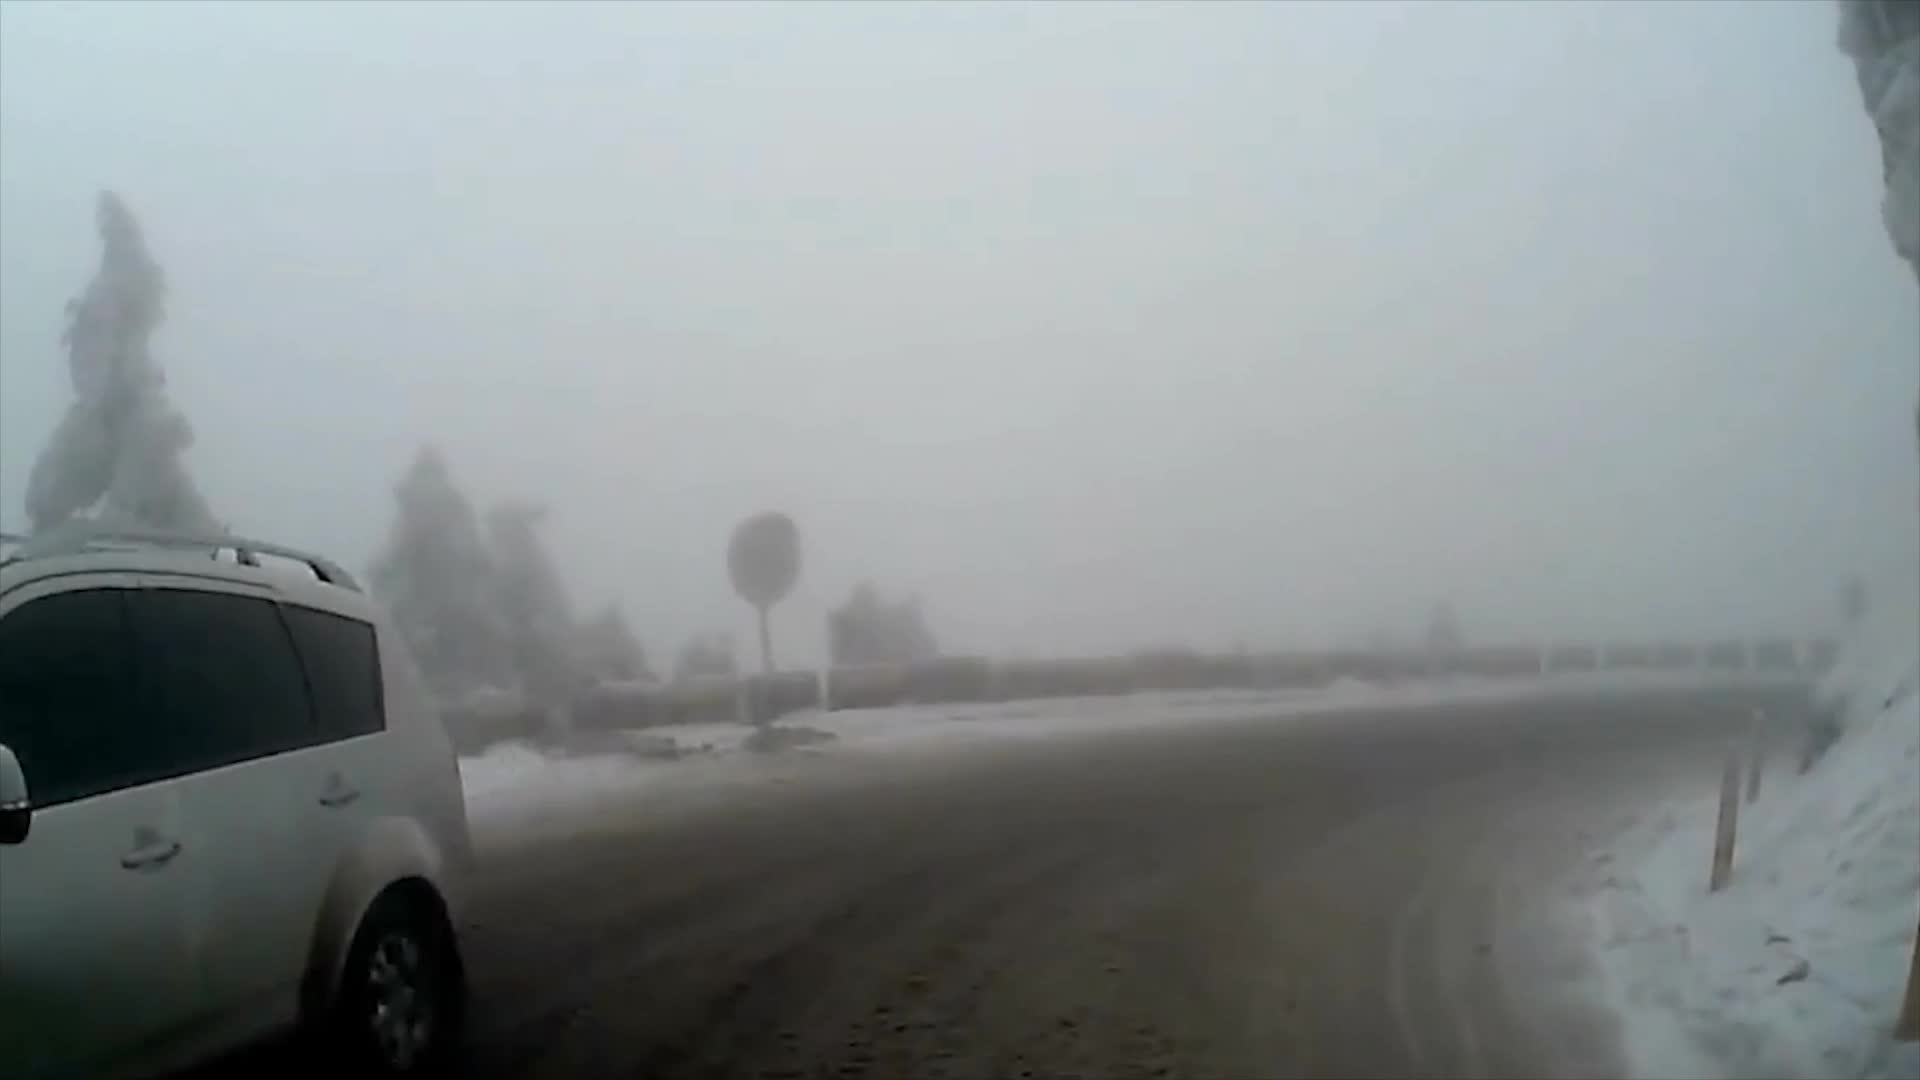vehicle: (0, 524, 473, 1080)
